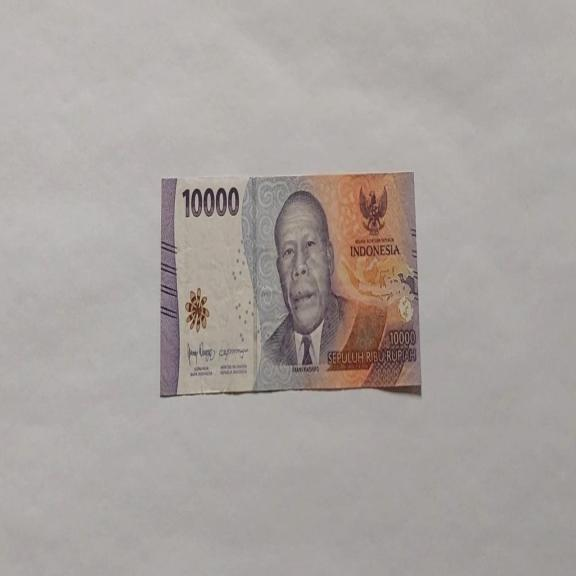Kertas: (160, 171, 422, 398), (181, 184, 240, 219)
